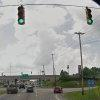Traffic light: (14, 2, 40, 31)
